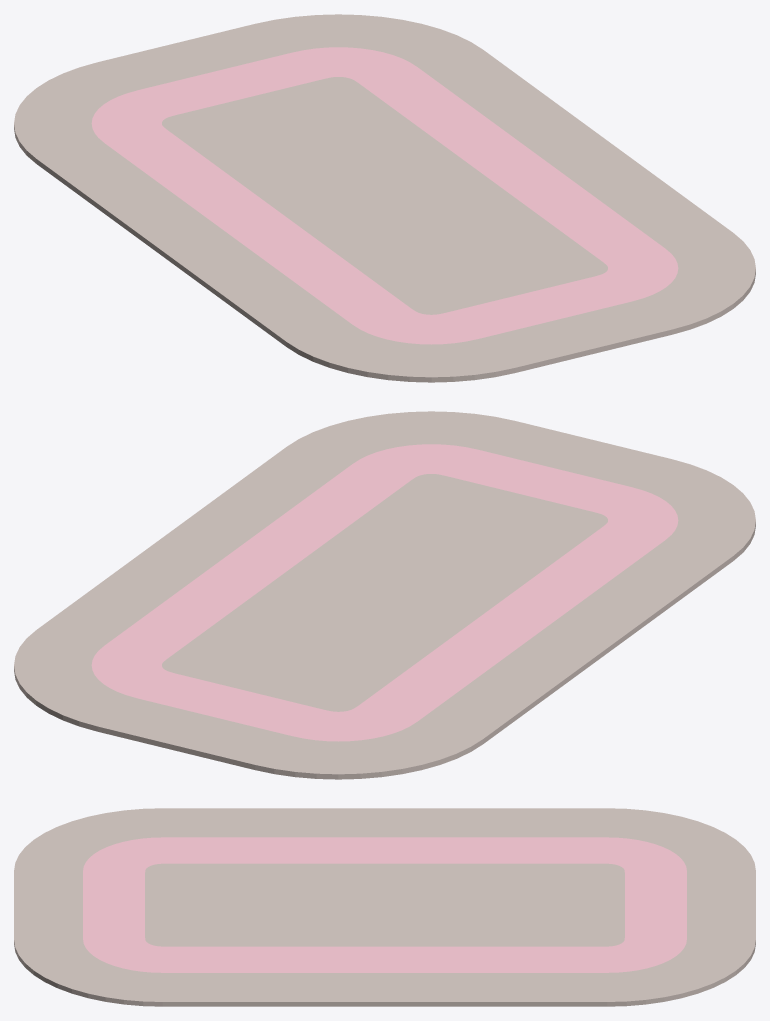
Rendered from Carpet_K.fbx.
The picture shows the model from 3 angles, top to bottom: view 1: azimuth 30°, elevation 25°; view 2: azimuth 150°, elevation 25°; view 3: azimuth 270°, elevation 25°; orthographic projection. The views are drawn at different scales.
Visible parts, largest first — view 1: Plane.002, Plane.003, Plane.001; view 2: Plane.002, Plane.003, Plane.001; view 3: Plane.002, Plane.003, Plane.001.
Boxes of the visible parts, x1,y1,x2,y2 form: Plane.002: (14,14,755,382); Plane.003: (91,47,678,344); Plane.001: (162,77,607,314); Plane.002: (14,411,755,779); Plane.003: (91,444,678,741); Plane.001: (162,474,607,711); Plane.002: (14,808,755,1006); Plane.003: (83,837,686,972); Plane.001: (145,863,624,946).
Bounding box in the file's own units: 397 × 4.46 × 642.
